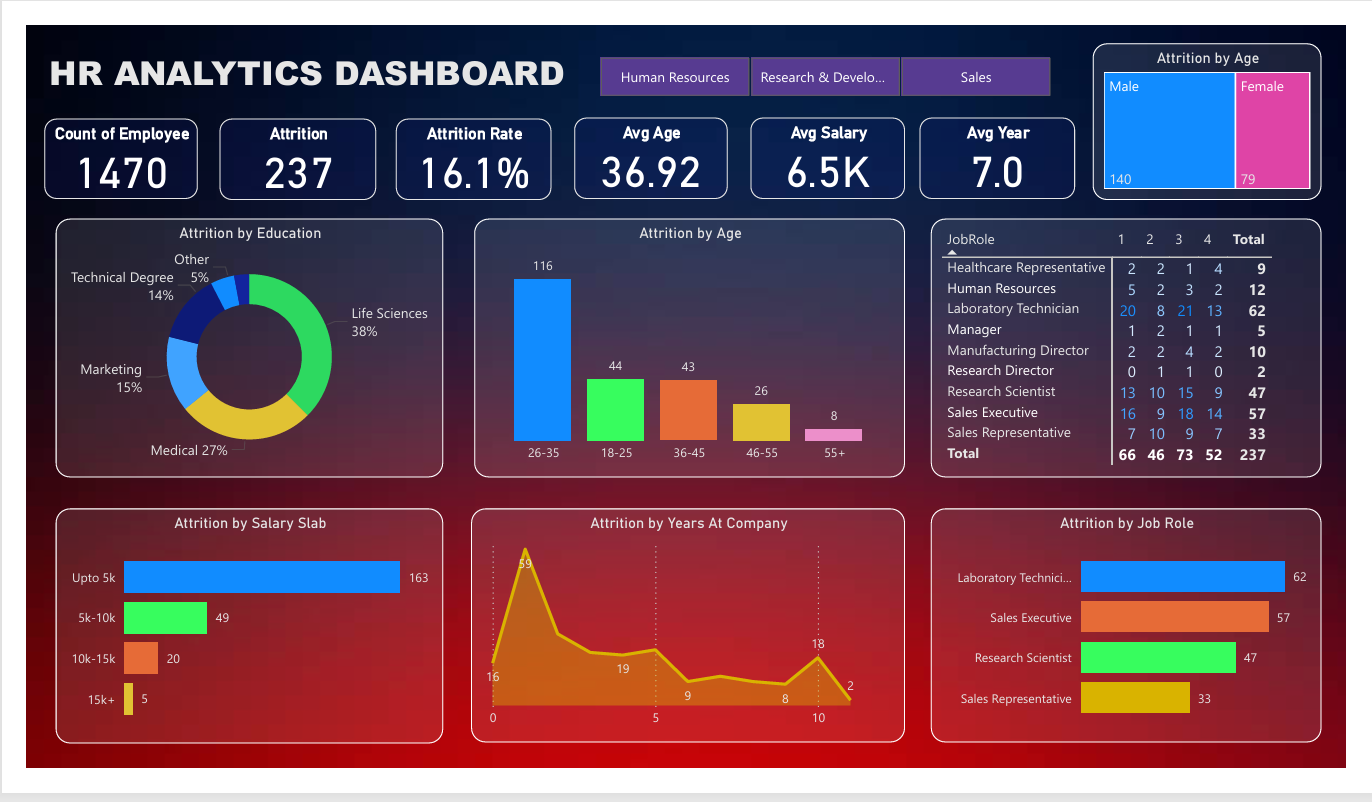

This screenshot's page, from the dashboard's own definition file:
{"tool":"powerbi","page":{"name":"Page 1","canvas":[1280,720],"ordinal":0},"visuals":[{"type":"card","title":"Count of Employee","fields":{"Values":["CountNonNull(HR_Analytics.EmpID)"]},"box":[16.9,90.5,149.6,77.2],"z":0},{"type":"card","title":"Attrition","fields":{"Values":["Sum(HR_Analytics.AttritionCount)"]},"box":[187,90.5,152,78.4],"z":1000},{"type":"card","title":"Attrition Rate","fields":{"Values":["HR_Analytics.AttrtionRate"]},"box":[358.3,90.5,150.8,78.4],"z":2000},{"type":"card","title":"Avg Age","fields":{"Values":["Avg(HR_Analytics.Age)"]},"box":[530.8,89.3,149.6,78.4],"z":3000},{"type":"card","title":"Avg Year","fields":{"Values":["Avg(HR_Analytics.YearsAtCompany)"]},"box":[866.2,89.3,150.8,78.4],"z":4000},{"type":"card","title":"Avg Salary","fields":{"Values":["Avg(HR_Analytics.MonthlyIncome)"]},"box":[702.1,89.3,149.6,78.4],"z":5000},{"type":"donutChart","title":"Attrition by Education ","fields":{"Category":["HR_Analytics.EducationField"],"Y":["Sum(HR_Analytics.AttritionCount)"]},"box":[27.7,187,376.4,250.9],"z":6000},{"type":"columnChart","title":"Attrition by Age","fields":{"Category":["HR_Analytics.AgeGroup"],"Y":["Sum(HR_Analytics.AttritionCount)"]},"box":[434.3,187,417.4,250.9],"z":7000},{"type":"pivotTable","fields":{"Rows":["HR_Analytics.JobRole"],"Columns":["HR_Analytics.JobSatisfaction"],"Values":["Sum(HR_Analytics.AttritionCount)"]},"box":[877.1,187,378.8,250.9],"z":8000},{"type":"barChart","title":"Attrition by Salary Slab","fields":{"Category":["HR_Analytics.SalarySlab"],"Y":["Sum(HR_Analytics.AttritionCount)"]},"box":[27.7,468.1,376.4,228],"z":9000},{"type":"barChart","title":"Attrition by Job Role","fields":{"Category":["HR_Analytics.JobRole"],"Y":["Sum(HR_Analytics.AttritionCount)"]},"box":[877.1,468.1,378.8,226.8],"z":10000},{"type":"areaChart","title":"Attrition by Years At Company","fields":{"Category":["HR_Analytics.YearsAtCompany"],"Y":["Sum(HR_Analytics.AttritionCount)"]},"box":[430.7,468.1,421,226.8],"z":11000},{"type":"treemap","title":"Attrition by Age","fields":{"Group":["HR_Analytics.Gender"],"Values":["Sum(HR_Analytics.AttritionCount)"]},"box":[1033.9,16.9,222,152],"z":12000},{"type":"slicer","fields":{"Values":["HR_Analytics.Department"]},"box":[530.8,24.1,486.2,50.7],"z":13000},{"type":"textbox","box":[17.1,17.1,522.9,64.3],"z":14000}]}

Visuals, with their boxes in screenshot pixels (x1, y1, x2, y2):
"Count of Employee" card: <region>0, 99, 150, 184</region>
"Attrition" card: <region>173, 99, 339, 185</region>
"Attrition Rate" card: <region>361, 99, 526, 185</region>
"Avg Age" card: <region>550, 98, 713, 184</region>
"Avg Year" card: <region>917, 98, 1082, 184</region>
"Avg Salary" card: <region>737, 98, 901, 184</region>
"Attrition by Education " donutChart: <region>0, 205, 411, 480</region>
"Attrition by Age" columnChart: <region>444, 205, 901, 480</region>
pivotTable - HR_Analytics.JobRole x HR_Analytics.JobSatisfaction: <region>929, 205, 1344, 480</region>
"Attrition by Salary Slab" barChart: <region>0, 513, 411, 763</region>
"Attrition by Job Role" barChart: <region>929, 513, 1344, 762</region>
"Attrition by Years At Company" areaChart: <region>440, 513, 901, 762</region>
"Attrition by Age" treemap: <region>1101, 19, 1344, 185</region>
slicer - HR_Analytics.Department: <region>550, 26, 1082, 82</region>
textbox: <region>0, 19, 560, 89</region>
